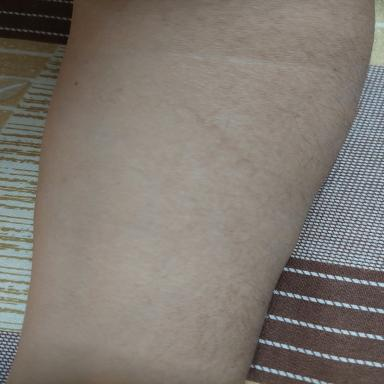normal skin: (8, 0, 373, 384)
